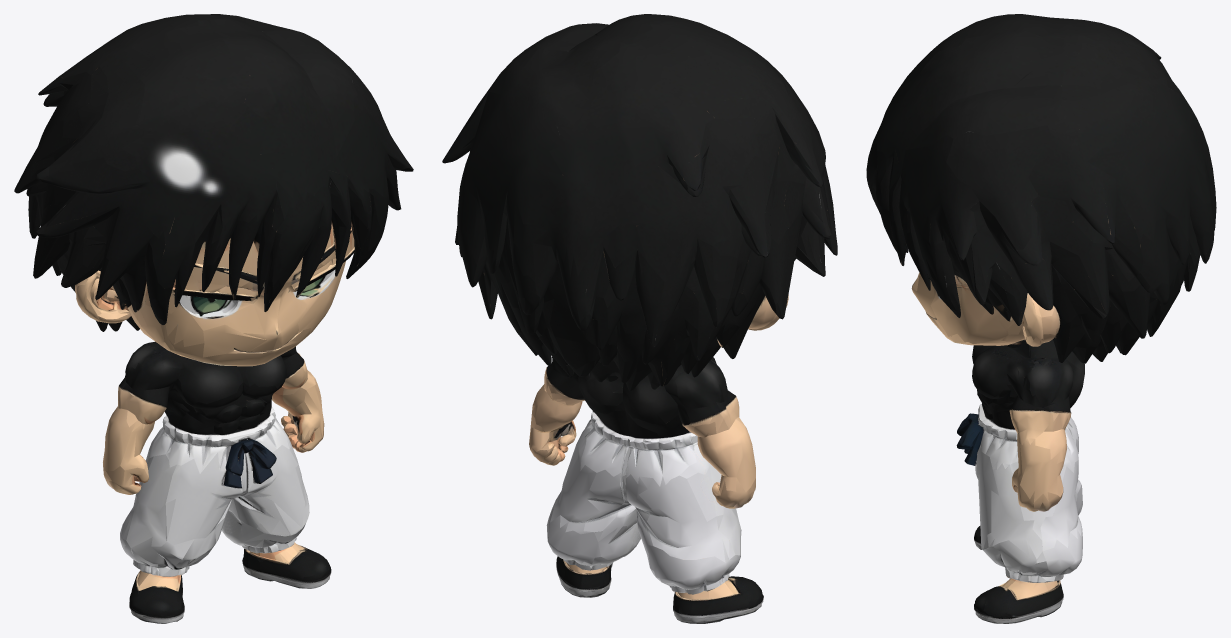
Rendered from Tojy.glb.
3 renders of one model, left to right at view 1: azimuth 30°, elevation 25°; view 2: azimuth 150°, elevation 25°; view 3: azimuth 270°, elevation 25°, orthographic. The views are drawn at different scales.
Visible parts, largest first — view 1: Mesh_0; view 2: Mesh_0; view 3: Mesh_0.
Boxes of the visible parts, <box> form: Mesh_0: <box>14,14,413,623</box>; Mesh_0: <box>442,14,837,623</box>; Mesh_0: <box>866,14,1216,623</box>.
Bounding box in the file's own units: 1.28 × 1.9 × 1.1.
1 material, 1 textured.
